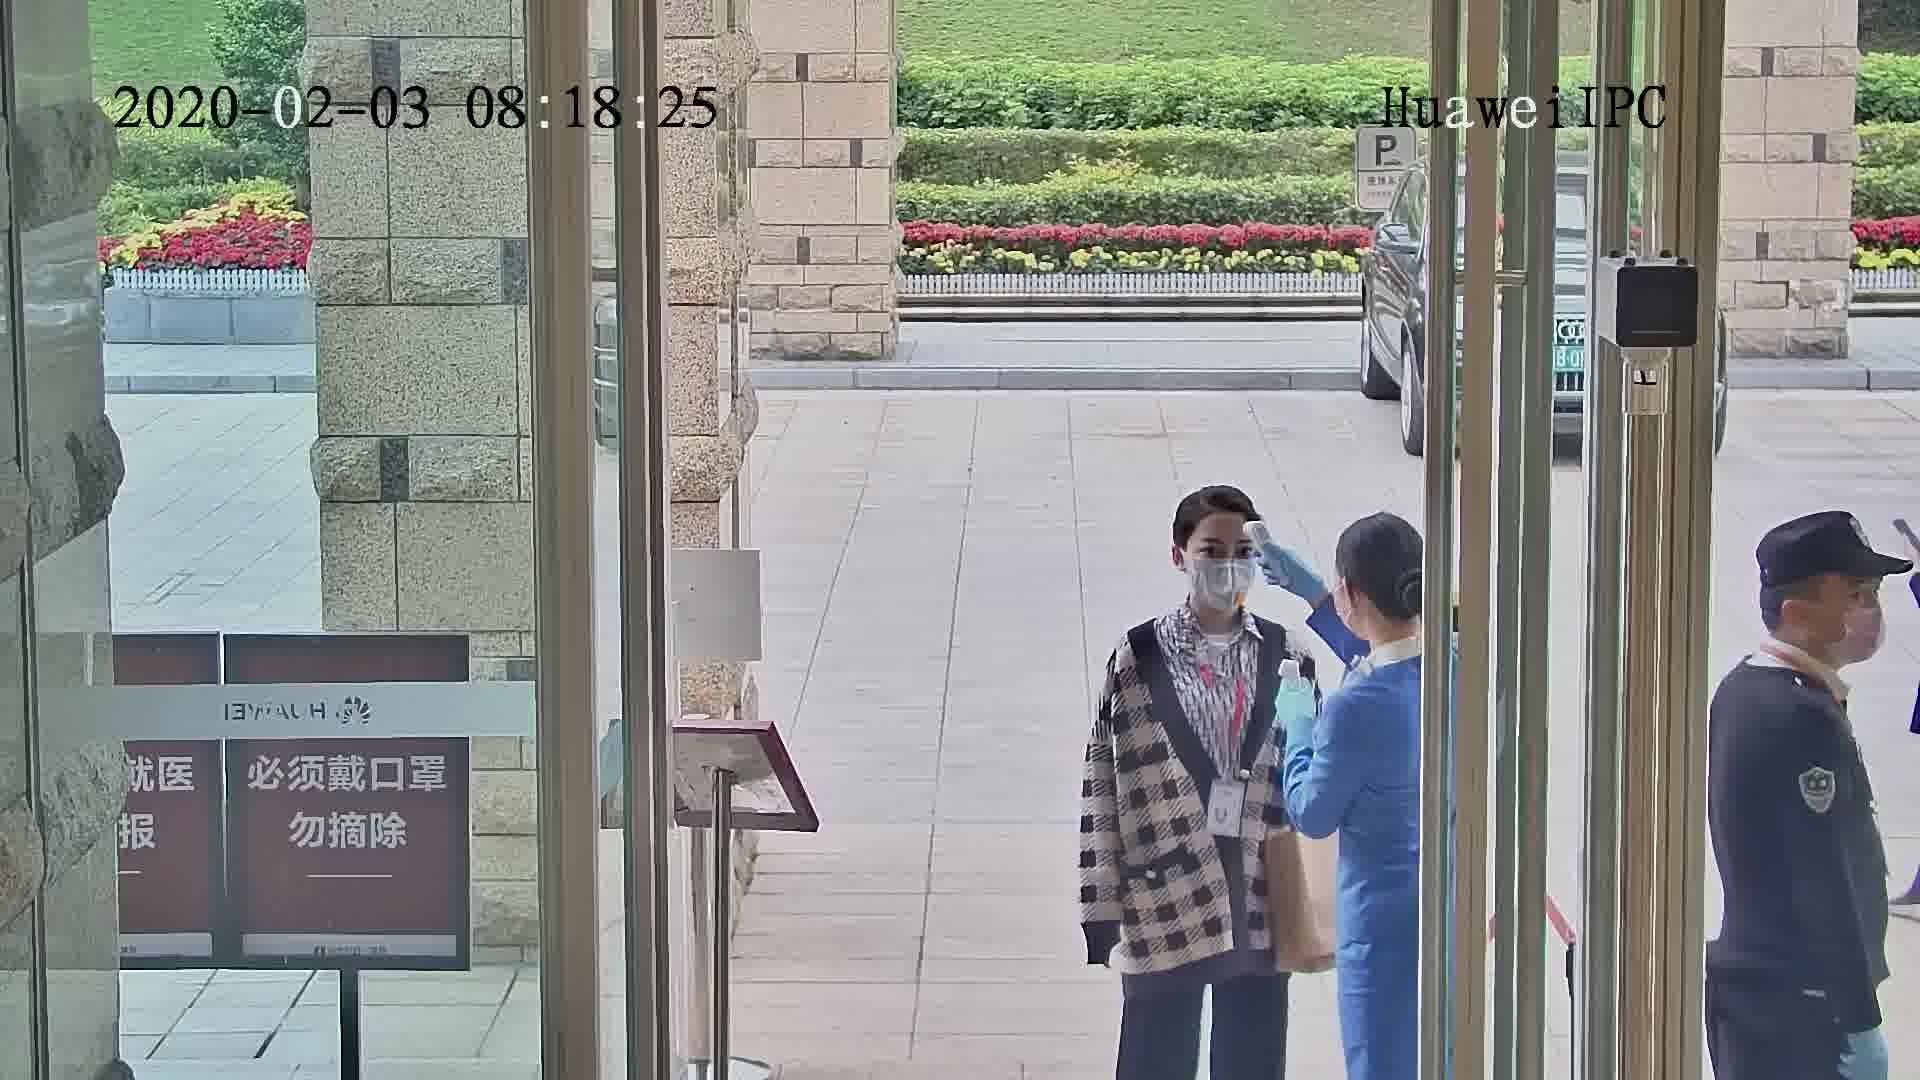face: (1809, 558, 1889, 673), (1194, 524, 1254, 615)
mask: (1189, 551, 1258, 620), (1829, 598, 1887, 669)
person: (1717, 488, 1898, 763), (1105, 486, 1298, 696), (1320, 507, 1423, 758)
